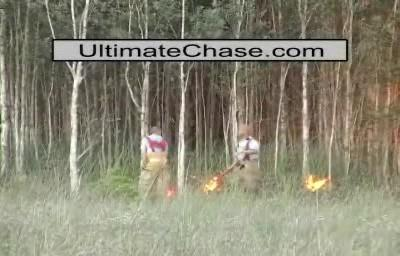fire: (305, 171, 328, 193), (207, 176, 221, 191)
